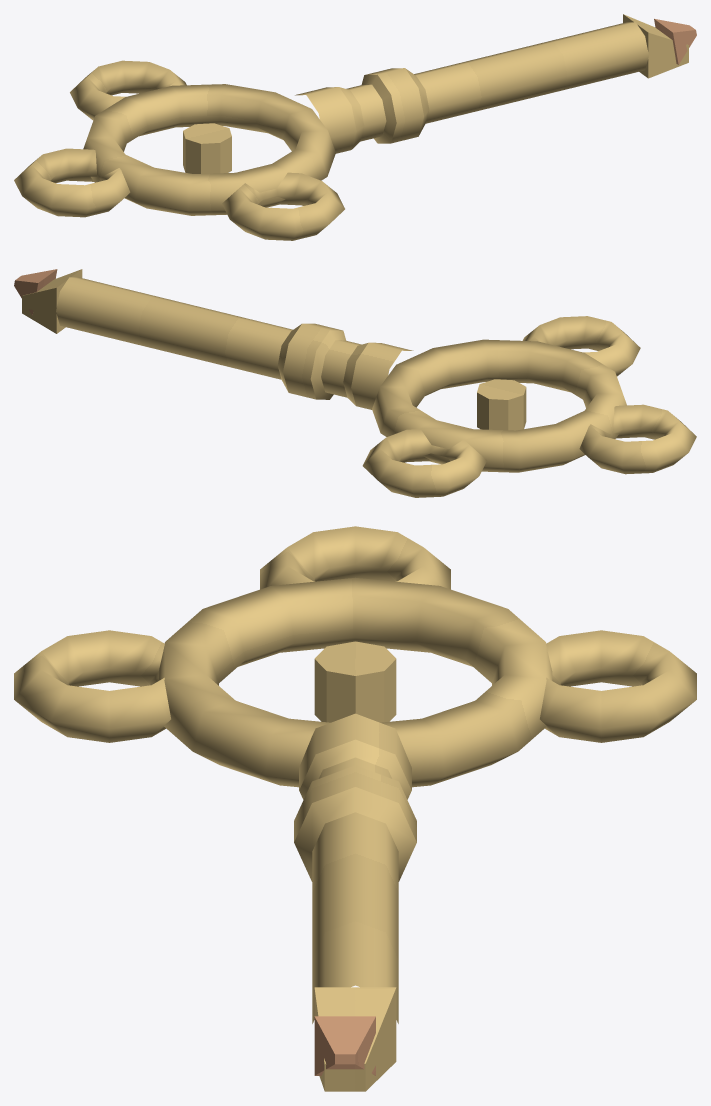
The model's file is item_key_part.glb.
The picture shows the model from 3 angles, top to bottom: view 1: azimuth 30°, elevation 25°; view 2: azimuth 150°, elevation 25°; view 3: azimuth 270°, elevation 25°; orthographic projection. The views are drawn at different scales.
Visible parts, largest first — view 1: key; view 2: key; view 3: key.
Boxes of the visible parts, x1,y1,x2,y2 form: key: (14, 14, 696, 240); key: (14, 269, 696, 497); key: (14, 526, 696, 1091).
Size of the model in its own units: 0.1218 by 0.012 by 0.0666.
2 materials, 2 textured.
